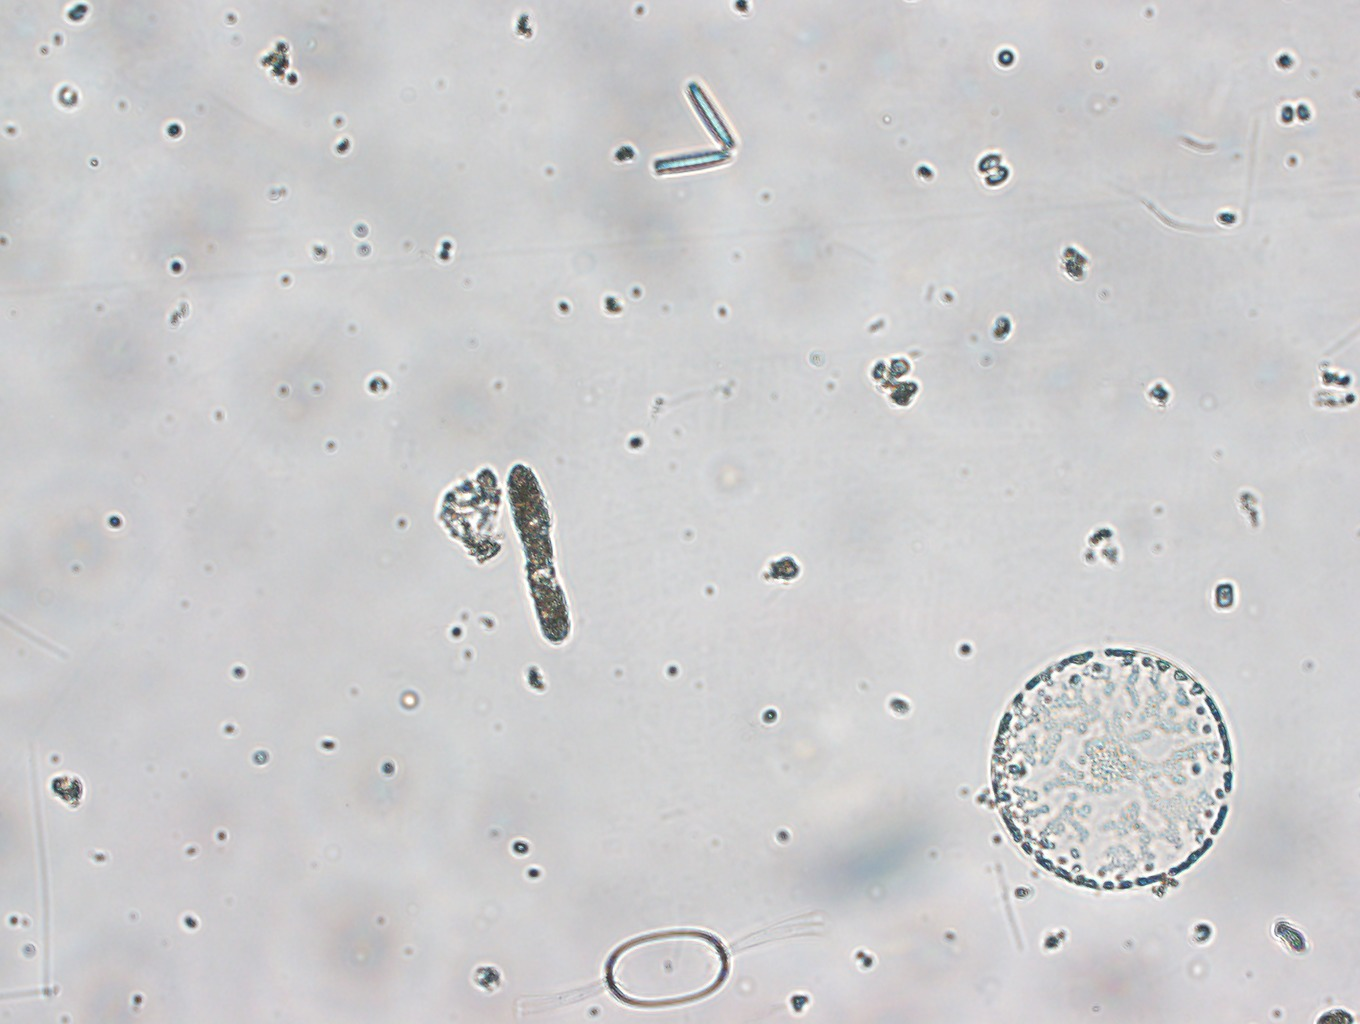coscinodiscus: (979, 637, 1244, 904)
thalassionema nitzschioides: (643, 79, 750, 181)
